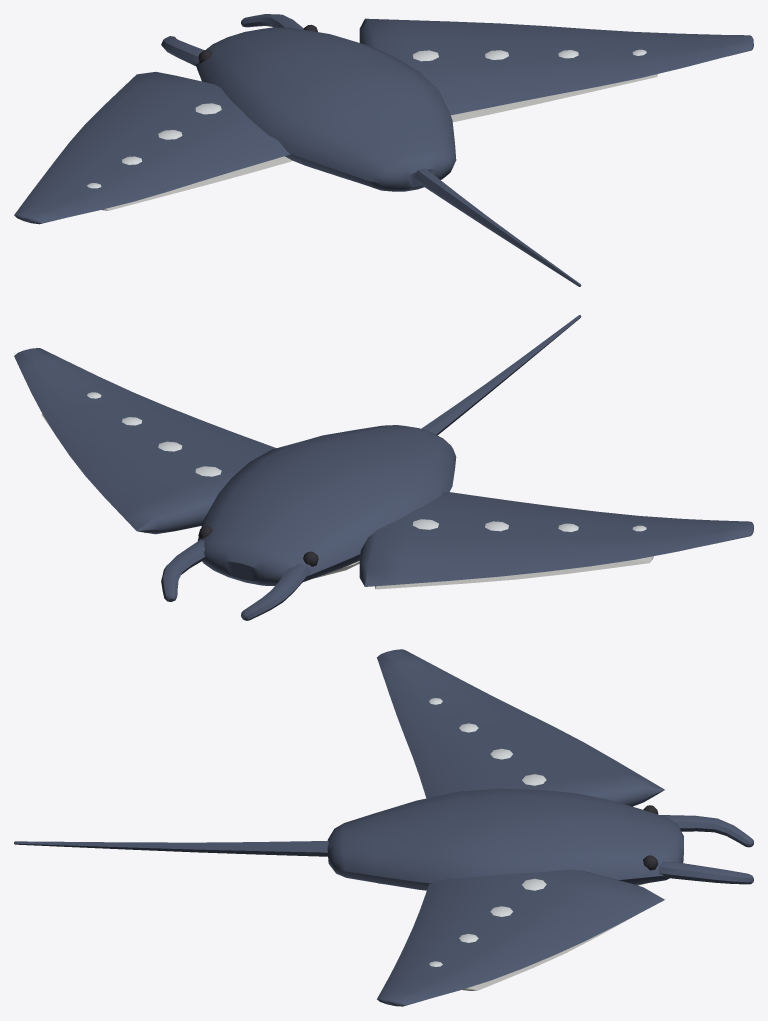
The model's file is sea_sunskate.gltf.
The picture shows the model from 3 angles, top to bottom: view 1: azimuth 30°, elevation 25°; view 2: azimuth 150°, elevation 25°; view 3: azimuth 270°, elevation 25°; orthographic projection.
Visible parts, largest first — view 1: Body, WingL, WingR, Tail; view 2: Body, WingL, WingR, Tail; view 3: Body, WingR, WingL, Tail.
Part boxes in pixels (bbox=[...]): Body: bbox=[161, 14, 456, 191]; WingL: bbox=[14, 72, 292, 224]; WingR: bbox=[359, 18, 753, 122]; Tail: bbox=[413, 168, 581, 286]; Body: bbox=[161, 425, 456, 620]; WingL: bbox=[359, 492, 753, 589]; WingR: bbox=[14, 348, 276, 534]; Tail: bbox=[421, 315, 581, 435]; Body: bbox=[327, 788, 753, 890]; WingR: bbox=[377, 869, 664, 1006]; WingL: bbox=[377, 649, 664, 806]; Tail: bbox=[14, 841, 328, 856].
Size of the model in its own units: 5.1 by 0.431 by 4.49.
